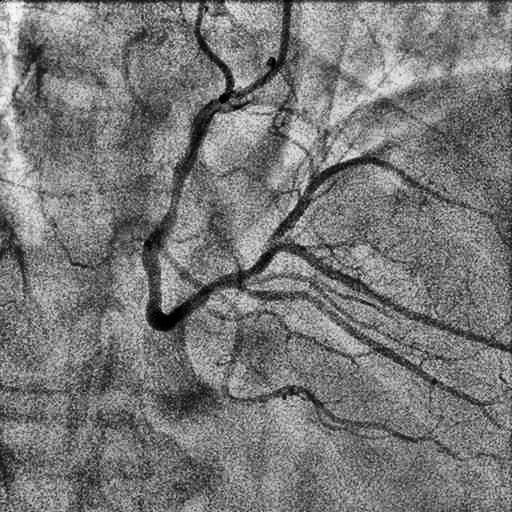pborca: (236, 156, 491, 281)
pda: (238, 284, 484, 406)
rca: (142, 99, 241, 331)
